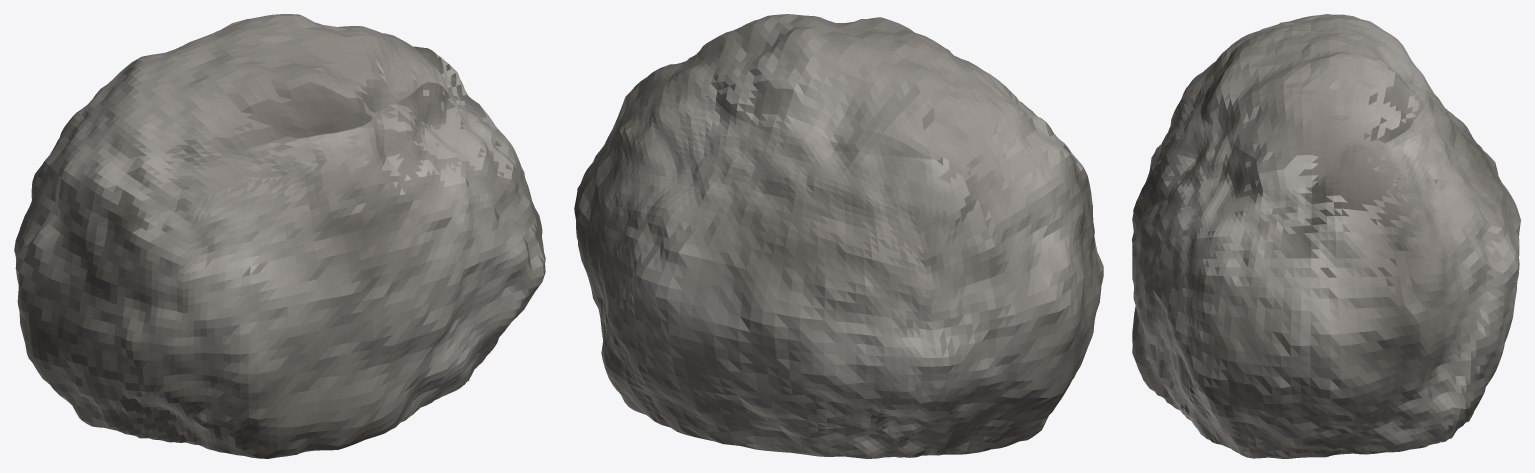
The model's file is good-polycam-like.glb.
The picture shows the model from 3 angles, left to right: view 1: azimuth 30°, elevation 25°; view 2: azimuth 150°, elevation 25°; view 3: azimuth 270°, elevation 25°; orthographic projection. The views are drawn at different scales.
Visible parts, largest first — view 1: scan; view 2: scan; view 3: scan.
Boxes of the visible parts, <box> form: scan: <box>14,14,545,458</box>; scan: <box>574,14,1103,458</box>; scan: <box>1132,14,1520,458</box>.
Bounding box in the file's own units: 2.51 × 1.81 × 1.84.
Materials: 1 (1 with a texture image).
